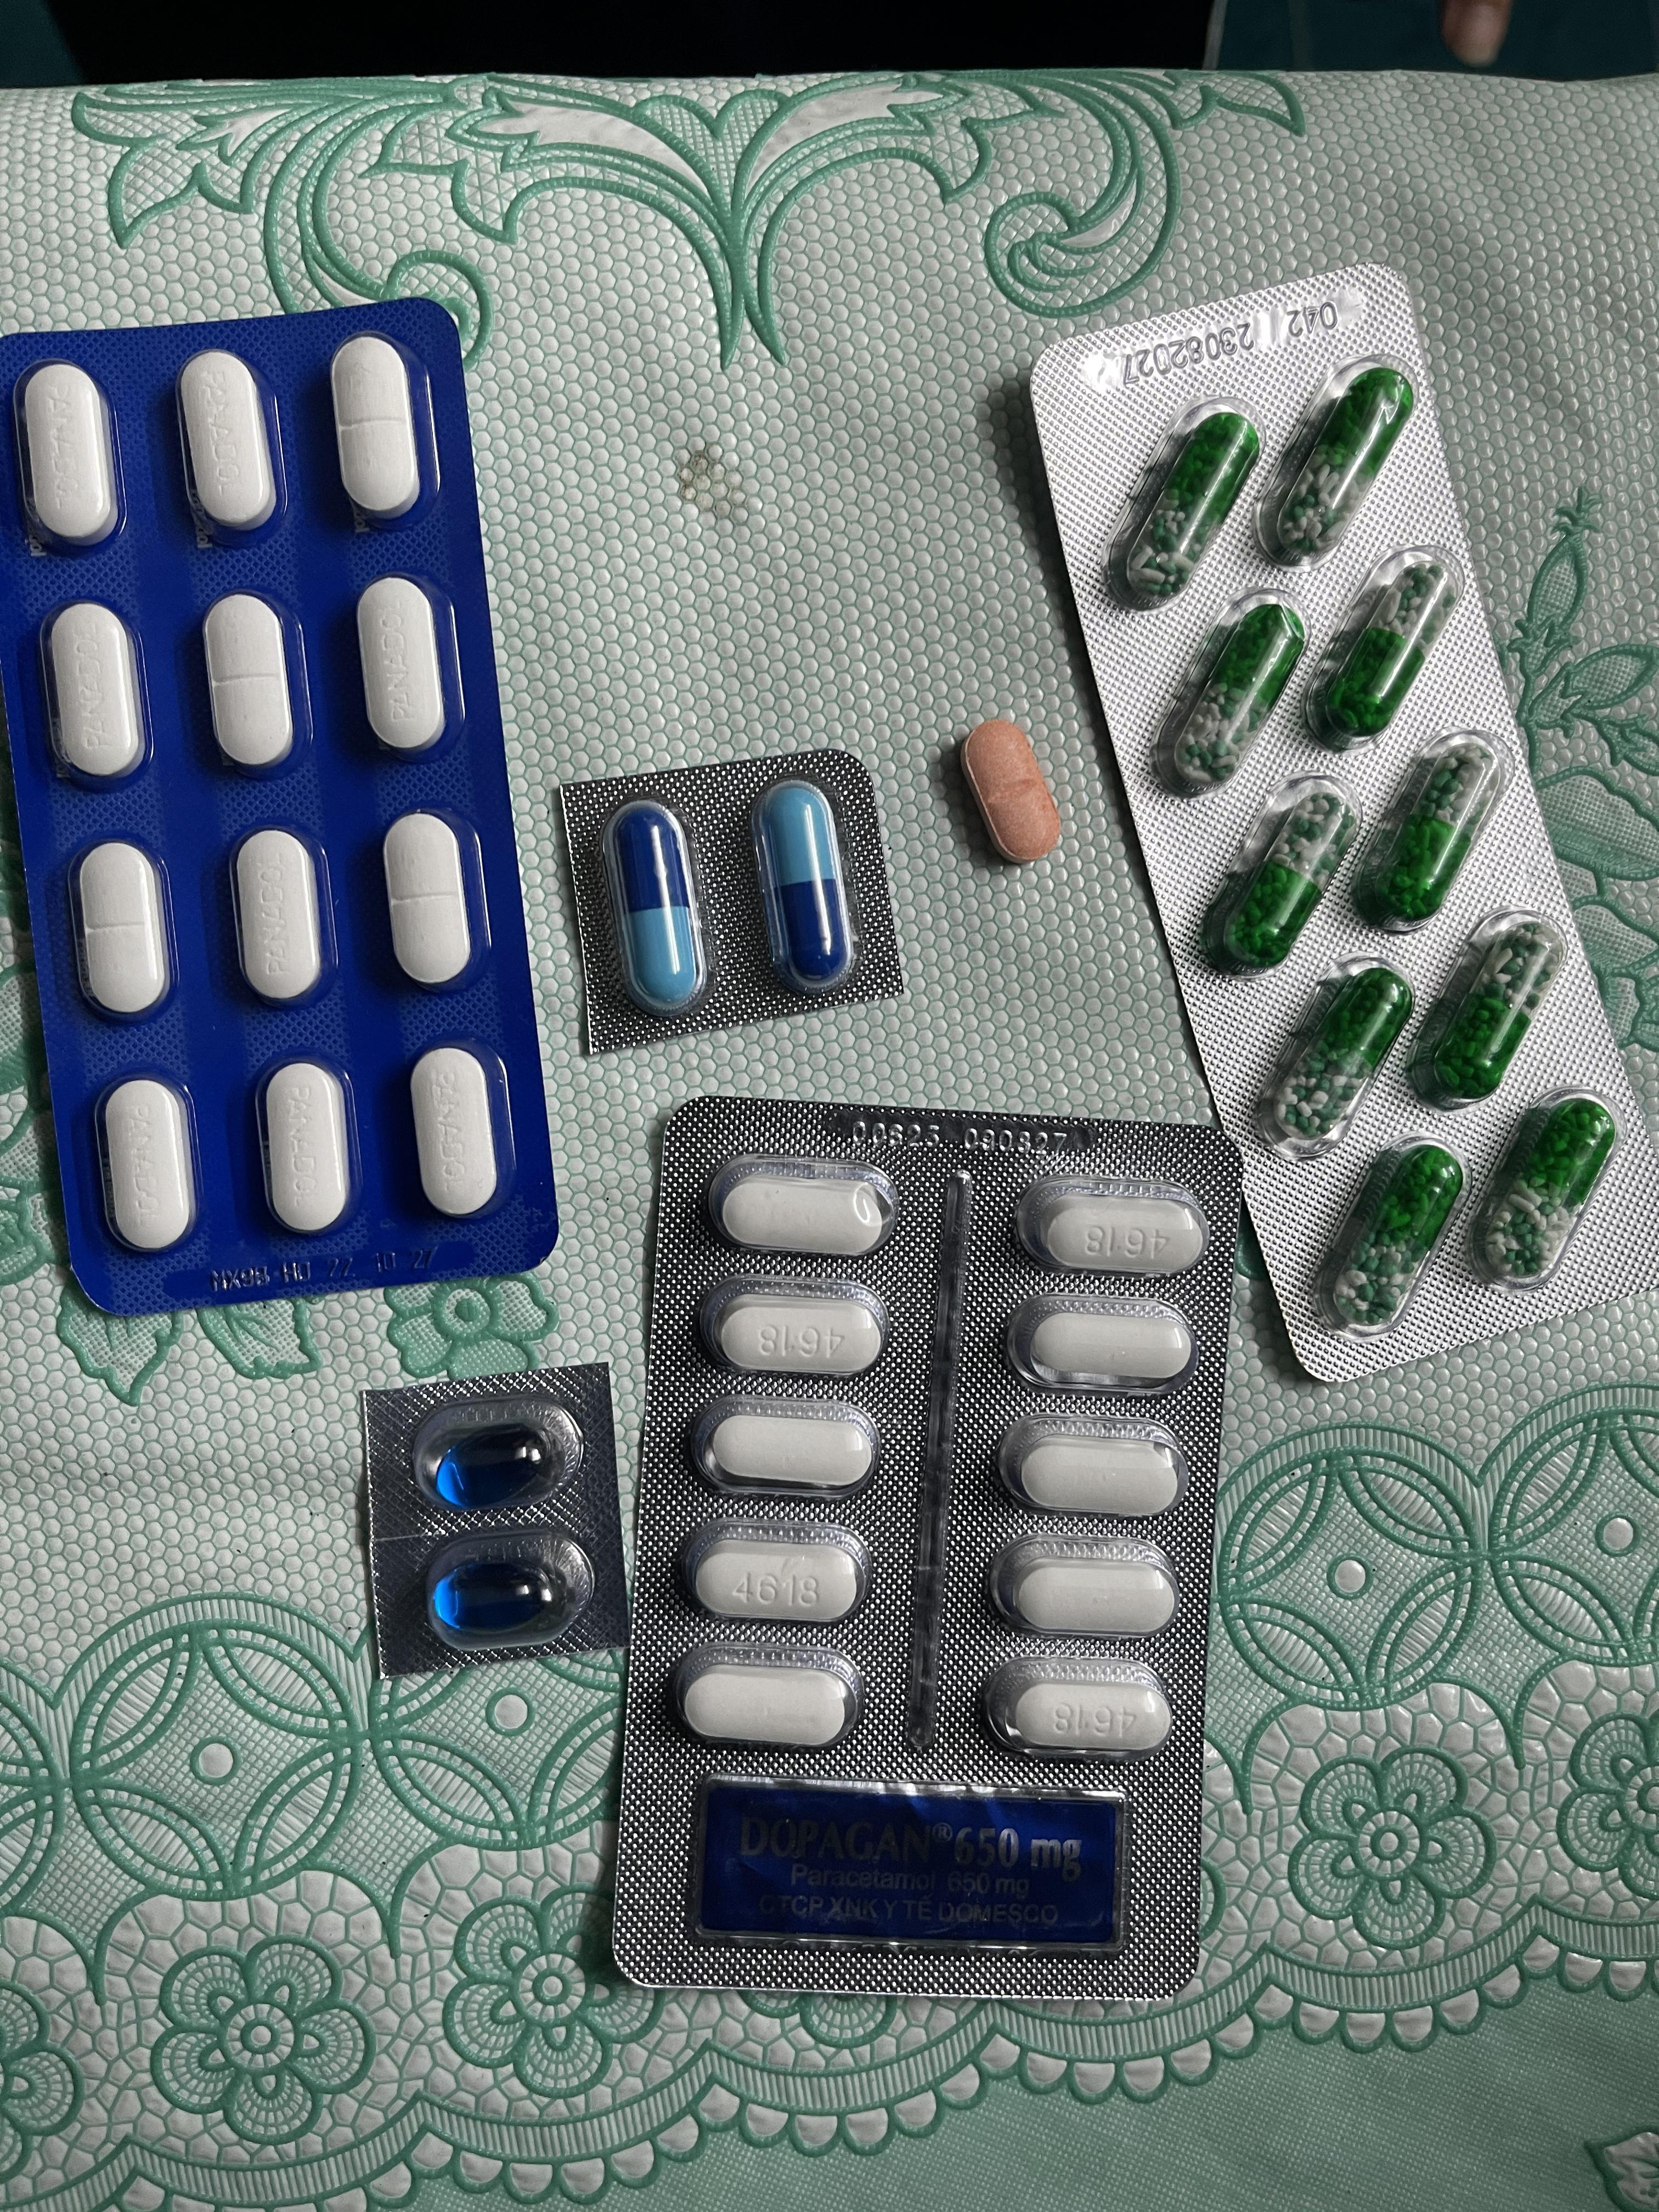Lincomyxin_500mg: (430, 1425, 556, 1510), (432, 1557, 563, 1637)
Loratadine_10mg: (960, 719, 1065, 864)
Paracetamol_350mg: (42, 603, 150, 796), (16, 359, 119, 556), (178, 352, 282, 545), (70, 840, 173, 1028), (94, 1075, 197, 1254), (331, 334, 425, 529), (230, 826, 329, 1007), (202, 594, 298, 779), (357, 577, 450, 765), (383, 813, 479, 995), (256, 1059, 354, 1233), (411, 1049, 504, 1217)
Paracetamol_500mg: (1000, 1421, 1188, 1524), (692, 1400, 875, 1503), (1007, 1296, 1195, 1393), (709, 1157, 896, 1254), (683, 1521, 863, 1622), (1018, 1179, 1202, 1275), (704, 1278, 884, 1376), (685, 1667, 852, 1747), (1006, 1561, 1173, 1634), (1012, 1681, 1168, 1754)
Paracetamol_650mg: (1281, 369, 1406, 566), (1321, 563, 1453, 747), (1276, 967, 1412, 1139), (1133, 413, 1258, 596), (1429, 925, 1561, 1097), (1483, 1103, 1617, 1271), (1222, 792, 1349, 961), (1180, 611, 1302, 780), (1338, 1151, 1459, 1317), (1377, 751, 1493, 920)
pill: (603, 796, 714, 1017), (753, 782, 856, 1001)
